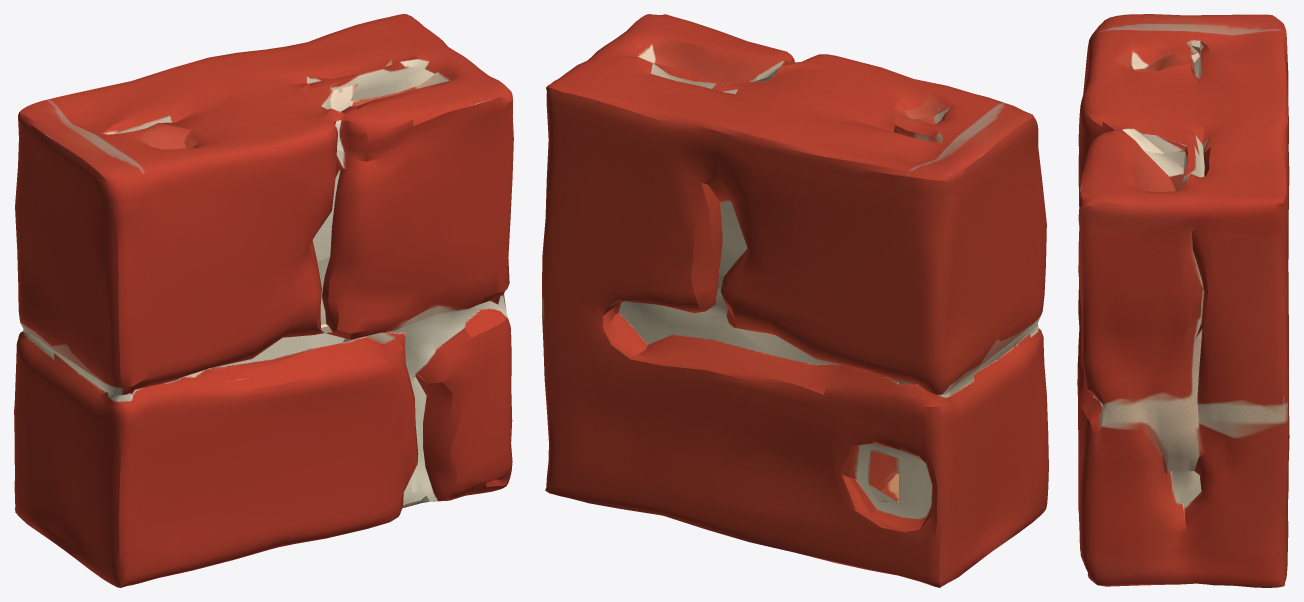
File: brick_std_redbrick_v2.glb
3 views of the same model, side by side, from view 1: azimuth 30°, elevation 25°; view 2: azimuth 150°, elevation 25°; view 3: azimuth 270°, elevation 25° (orthographic). The views are drawn at different scales.
Parts seen in each view (by area): view 1: Mesh_0; view 2: Mesh_0; view 3: Mesh_0.
Part boxes in pixels (x1,y1,x2,y2): Mesh_0: [14, 14, 513, 587]; Mesh_0: [542, 14, 1048, 587]; Mesh_0: [1077, 14, 1289, 587].
Bounding box in the file's own units: 1.9 × 1.84 × 0.904.
1 material, 1 textured.
